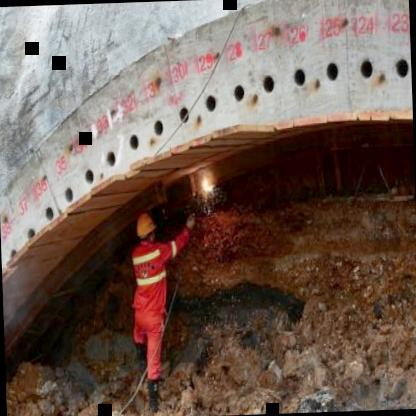helmet: (134, 211, 158, 244)
